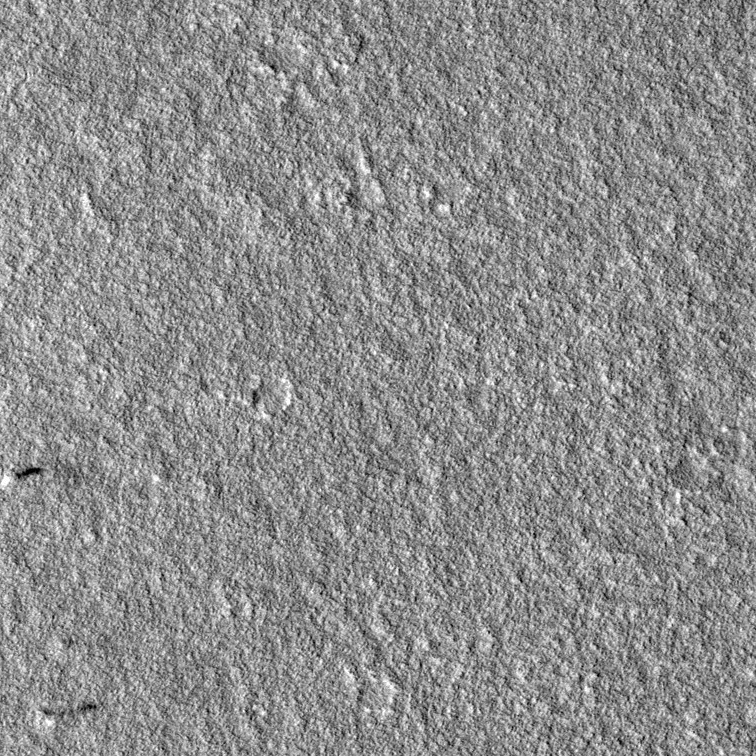dust_devil: (32, 699, 103, 734), (1, 462, 47, 495)
